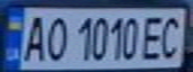0: (121, 14, 142, 61), (90, 14, 109, 61)
1: (72, 14, 93, 62), (109, 14, 127, 61)
A: (18, 11, 51, 63)
C: (157, 12, 187, 61)
E: (139, 12, 169, 61)
O: (42, 12, 69, 62)
